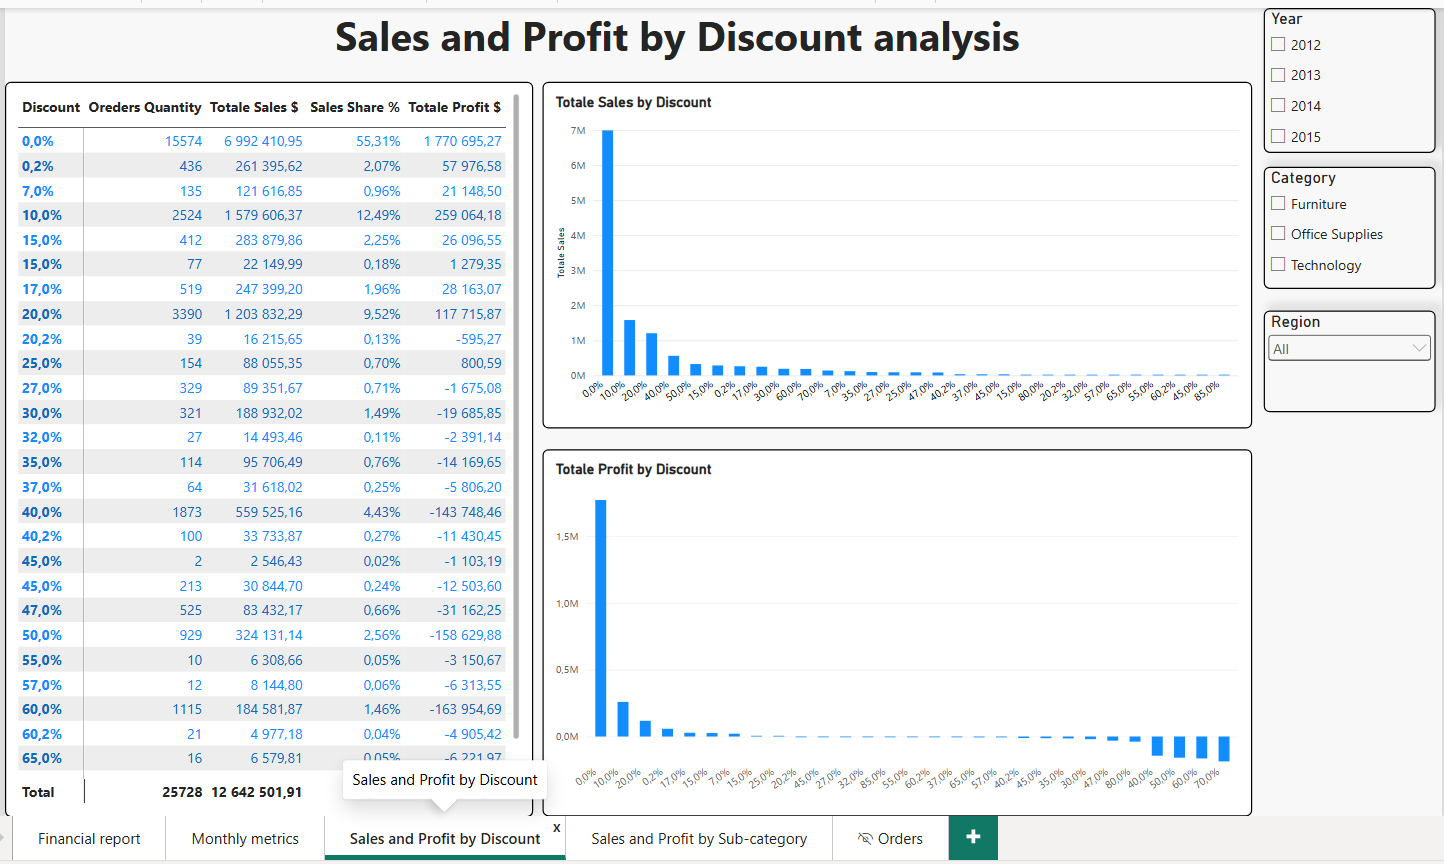

The page's visual inventory and layout, read from the dashboard file:
{"tool":"powerbi","page":{"name":"Sales and Profit by Discount","canvas":[1920,1080],"ordinal":2},"visuals":[{"type":"columnChart","title":"Totale Sales  by Discount ","fields":{"Category":["factOrders.Discount"],"Y":["_measures.Totale Sales $"]},"box":[718.4,97.7,948.3,463.3],"z":0},{"type":"columnChart","title":"Totale Profit by Profit","fields":{"Category":["factOrders.Discount"],"Y":["_measures.Totale Profit $"]},"box":[718.4,589.9,948.3,490.4],"z":1000},{"type":"pivotTable","fields":{"Rows":["factOrders.Discount"],"Values":["_measures.Oreders Quantity","_measures.Totale Sales $","_measures.Sales Share %","_measures.Totale Profit $"]},"box":[0,97.7,705.8,982.6],"z":2000},{"type":"slicer","fields":{"Values":["DimDate.Date.Variation.Date Hierarchy.Year"]},"box":[1681.2,0,229.8,193.6],"z":3000},{"type":"slicer","fields":{"Values":["dimProduct.Category"]},"box":[1681.2,211.7,229.8,162.9],"z":4000},{"type":"slicer","fields":{"Values":["dimAdress.Region"]},"box":[1681.2,403.6,229.8,135.7],"z":5000},{"type":"textbox","box":[242.5,0,1312,83.2],"z":6000}]}

Visuals, with their boxes on the page's 1920x1080 design canvas (x1, y1, x2, y2). These are canvas units, not pixel positions in the 1444x864 screenshot, which may show the page scaled, cropped or inside an application window:
"Totale Sales  by Discount " columnChart: 718,98,1667,561
"Totale Profit by Profit" columnChart: 718,590,1667,1080
pivotTable - factOrders.Discount x _measures.Oreders Quantity: 0,98,706,1080
slicer - DimDate.Date.Variation.Date Hierarchy.Year: 1681,0,1911,194
slicer - dimProduct.Category: 1681,212,1911,375
slicer - dimAdress.Region: 1681,404,1911,539
textbox: 242,0,1554,83
